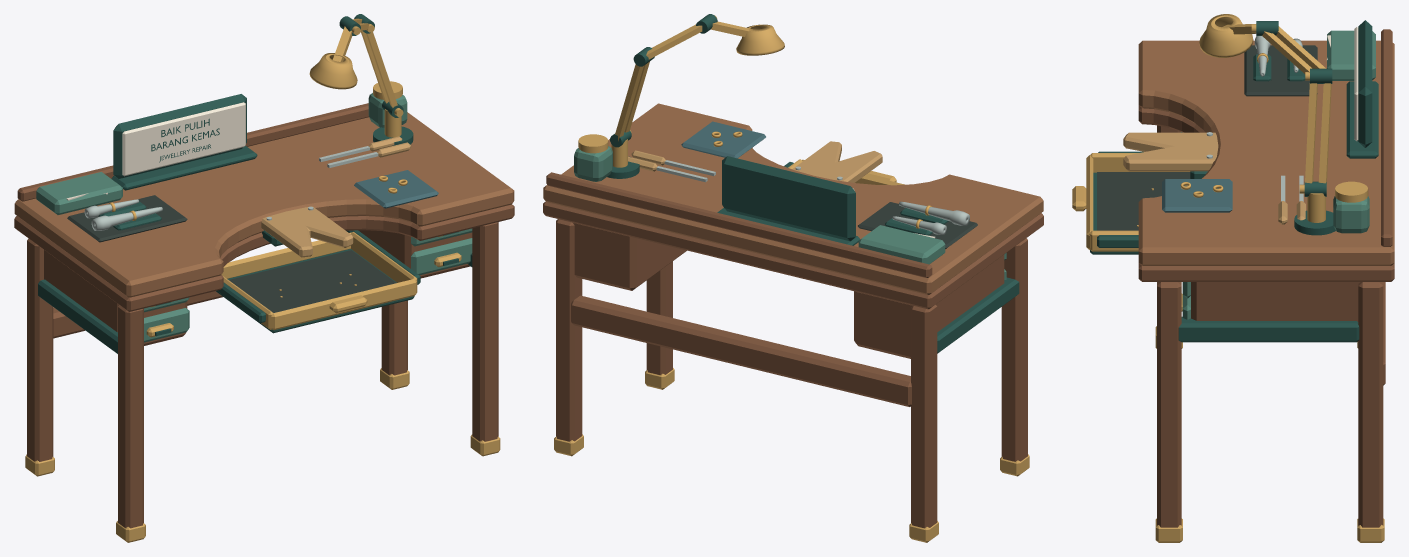
File: shophouse-jewellery-repair-bench.glb
The picture shows the model from 3 angles, left to right: view 1: azimuth 30°, elevation 25°; view 2: azimuth 150°, elevation 25°; view 3: azimuth 270°, elevation 25°; orthographic projection. The views are drawn at different scales.
Parts seen in each view (by area): view 1: Shaped worktop, frame and recessed drawers | Used warm walnu, Shaped worktop, frame and recessed drawers | Polished endgra, V-notch bench pin and filing tray | Aged brass lamp and hard, Bilingual repair placard | Ecru label stock and unmarked rep, V-notch bench pin and filing tray | Charcoal felt liner and , Bilingual repair placard | Evergreen painted steel frame, Articulated task-light assembly | Aged brass lamp and hardwa, Mandrels, rings and hand tools | Old sage-green painted draw, V-notch bench pin and filing tray | Honey ash bench-pin repl, Shaped worktop, frame and recessed drawers | Old sage-green , Shaped worktop, frame and recessed drawers | Aged brass lamp, V-notch bench pin and filing tray | Evergreen painted steel  (+6 smaller); view 2: Shaped worktop, frame and recessed drawers | Polished endgra, Shaped worktop, frame and recessed drawers | Used warm walnu, Bilingual repair placard | Evergreen painted steel frame, Articulated task-light assembly | Aged brass lamp and hardwa, Mandrels, rings and hand tools | Old sage-green painted draw, V-notch bench pin and filing tray | Honey ash bench-pin repl, Shaped worktop, frame and recessed drawers | Evergreen paint, Mandrels, rings and hand tools | Dusty indigo blue strip pad, Shaped worktop, frame and recessed drawers | Aged brass lamp, Mandrels, rings and hand tools | Cool brushed tool-grade ste, Mandrels, rings and hand tools | Charcoal felt liner and gri, Articulated task-light assembly | Evergreen painted steel fr (+1 smaller); view 3: Shaped worktop, frame and recessed drawers | Used warm walnu, Shaped worktop, frame and recessed drawers | Polished endgra, Articulated task-light assembly | Aged brass lamp and hardwa, Shaped worktop, frame and recessed drawers | Evergreen paint, V-notch bench pin and filing tray | Honey ash bench-pin repl, V-notch bench pin and filing tray | Charcoal felt liner and , Bilingual repair placard | Evergreen painted steel frame, Mandrels, rings and hand tools | Old sage-green painted draw, V-notch bench pin and filing tray | Aged brass lamp and hard, Mandrels, rings and hand tools | Dusty indigo blue strip pad, Mandrels, rings and hand tools | Charcoal felt liner and gri, Articulated task-light assembly | Evergreen painted steel fr (+7 smaller).
Part boxes in pixels (x1,y1,x2,y2): Shaped worktop, frame and recessed drawers | Used warm walnu: [14, 112, 514, 297]; Shaped worktop, frame and recessed drawers | Polished endgra: [14, 103, 514, 528]; V-notch bench pin and filing tray | Aged brass lamp and hard: [221, 232, 417, 330]; Bilingual repair placard | Ecru label stock and unmarked rep: [122, 102, 245, 176]; V-notch bench pin and filing tray | Charcoal felt liner and : [229, 250, 396, 312]; Bilingual repair placard | Evergreen painted steel frame: [111, 94, 257, 190]; Articulated task-light assembly | Aged brass lamp and hardwa: [309, 18, 403, 137]; Mandrels, rings and hand tools | Old sage-green painted draw: [36, 93, 407, 214]; V-notch bench pin and filing tray | Honey ash bench-pin repl: [261, 206, 353, 257]; Shaped worktop, frame and recessed drawers | Old sage-green : [144, 228, 472, 342]; Shaped worktop, frame and recessed drawers | Aged brass lamp: [25, 235, 500, 542]; V-notch bench pin and filing tray | Evergreen painted steel : [216, 230, 420, 333]; Shaped worktop, frame and recessed drawers | Polished endgra: [543, 147, 1043, 528]; Shaped worktop, frame and recessed drawers | Used warm walnu: [543, 103, 1043, 294]; Bilingual repair placard | Evergreen painted steel frame: [717, 156, 860, 245]; Articulated task-light assembly | Aged brass lamp and hardwa: [611, 15, 784, 167]; Mandrels, rings and hand tools | Old sage-green painted draw: [574, 146, 945, 264]; V-notch bench pin and filing tray | Honey ash bench-pin repl: [792, 141, 882, 182]; Shaped worktop, frame and recessed drawers | Evergreen paint: [937, 277, 1019, 353]; Mandrels, rings and hand tools | Dusty indigo blue strip pad: [681, 121, 765, 158]; Shaped worktop, frame and recessed drawers | Aged brass lamp: [554, 368, 1029, 542]; Mandrels, rings and hand tools | Cool brushed tool-grade ste: [656, 160, 969, 234]; Mandrels, rings and hand tools | Charcoal felt liner and gri: [858, 202, 977, 248]; Articulated task-light assembly | Evergreen painted steel fr: [607, 14, 717, 178]; Shaped worktop, frame and recessed drawers | Used warm walnu: [1138, 40, 1394, 265]; Shaped worktop, frame and recessed drawers | Polished endgra: [1138, 29, 1394, 527]; Articulated task-light assembly | Aged brass lamp and hardwa: [1199, 14, 1331, 222]; Shaped worktop, frame and recessed drawers | Evergreen paint: [1178, 132, 1359, 342]; V-notch bench pin and filing tray | Honey ash bench-pin repl: [1123, 132, 1218, 171]; V-notch bench pin and filing tray | Charcoal felt liner and : [1097, 172, 1190, 230]; Bilingual repair placard | Evergreen painted steel frame: [1346, 20, 1378, 158]; Mandrels, rings and hand tools | Old sage-green painted draw: [1327, 30, 1375, 233]; V-notch bench pin and filing tray | Aged brass lamp and hard: [1072, 153, 1190, 251]; Mandrels, rings and hand tools | Dusty indigo blue strip pad: [1162, 179, 1232, 212]; Mandrels, rings and hand tools | Charcoal felt liner and gri: [1244, 45, 1317, 96]; Articulated task-light assembly | Evergreen painted steel fr: [1256, 21, 1335, 235].
Bounding box in the file's own units: 1.44 × 1.49 × 0.933.
